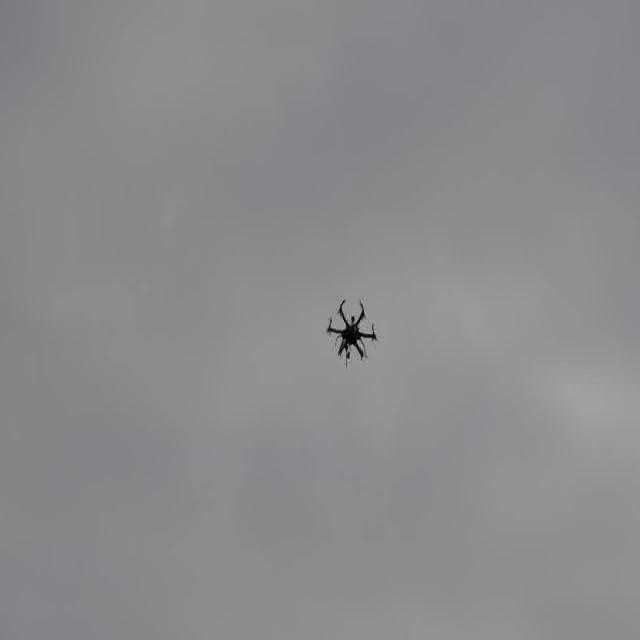drone: (328, 296, 378, 367)
